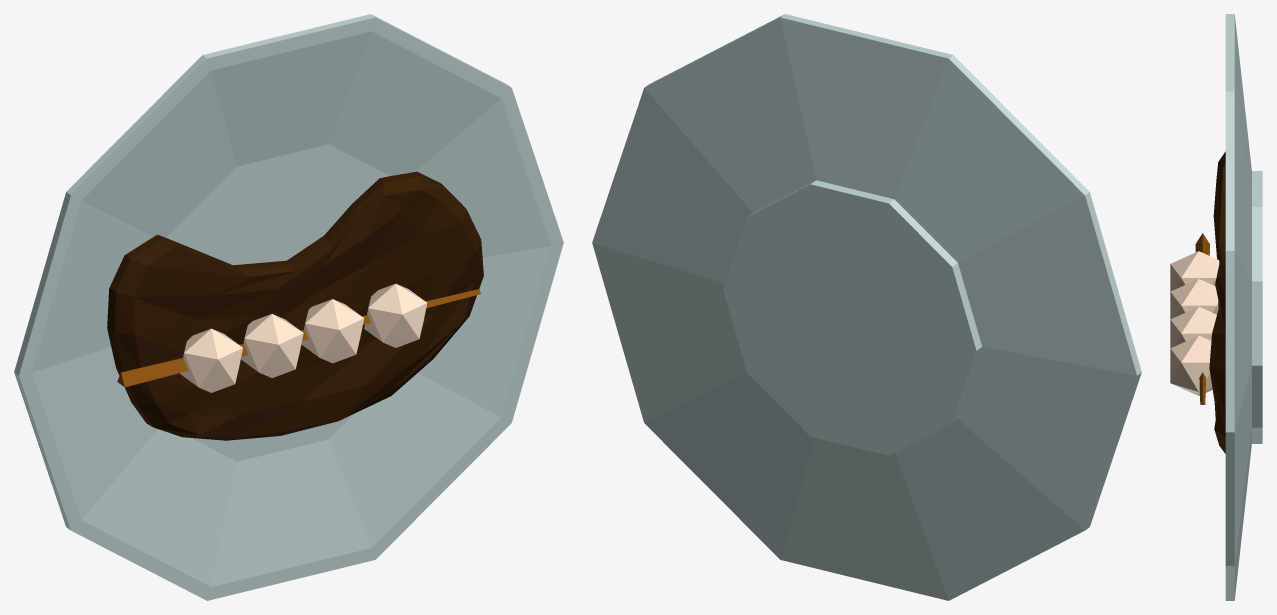
3 renders of one model, left to right at view 1: azimuth 30°, elevation 25°; view 2: azimuth 150°, elevation 25°; view 3: azimuth 270°, elevation 25°, orthographic. The views are drawn at different scales.
Visible parts, largest first — view 1: d food; view 2: d food; view 3: d food.
Part boxes in pixels (bbox=[...]): d food: bbox=[14, 14, 563, 600]; d food: bbox=[592, 14, 1141, 600]; d food: bbox=[1170, 14, 1262, 600].
Bounding box in the file's own units: 16.68 × 15.86 × 2.6.
